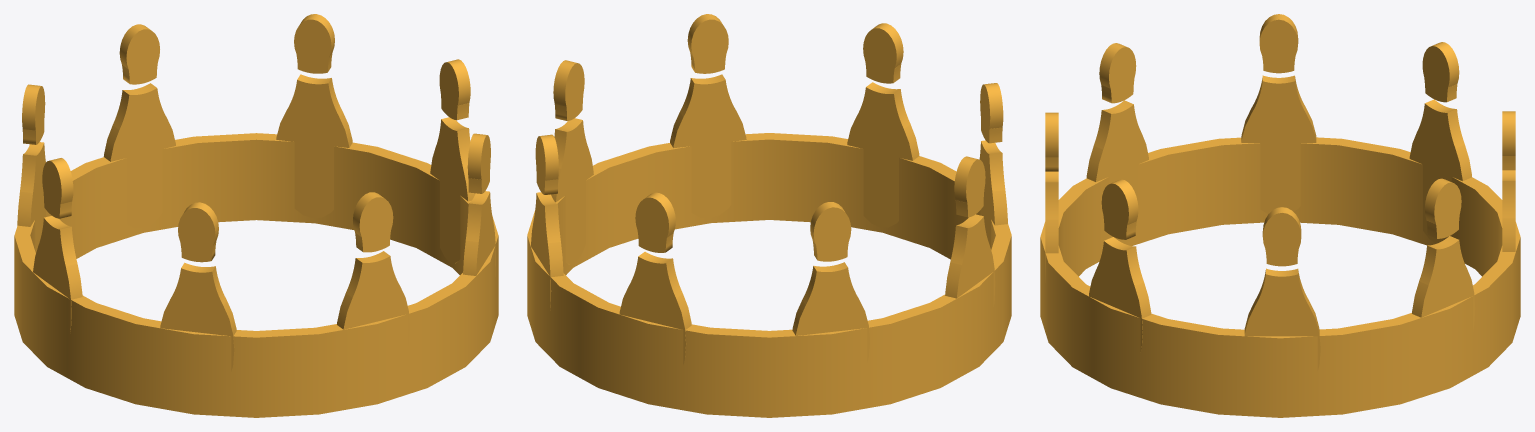
The model's file is winners-crown.dae.
3 renders of one model, left to right at view 1: azimuth 30°, elevation 25°; view 2: azimuth 150°, elevation 25°; view 3: azimuth 270°, elevation 25°, orthographic.
Visible parts, largest first — view 1: SketchUp (×2), cone (×16); view 2: SketchUp (×2), cone (×16); view 3: SketchUp (×2), cone (×16).
Part boxes in pixels (x1,y1,x2,y2): SketchUp (×2): [14, 133, 498, 417]; cone (×16): [17, 14, 495, 371]; SketchUp (×2): [527, 133, 1011, 417]; cone (×16): [531, 14, 1007, 364]; SketchUp (×2): [1040, 137, 1520, 417]; cone (×16): [1045, 14, 1515, 370].
Size of the model in its own units: 46.46 by 46.46 by 21.68.
